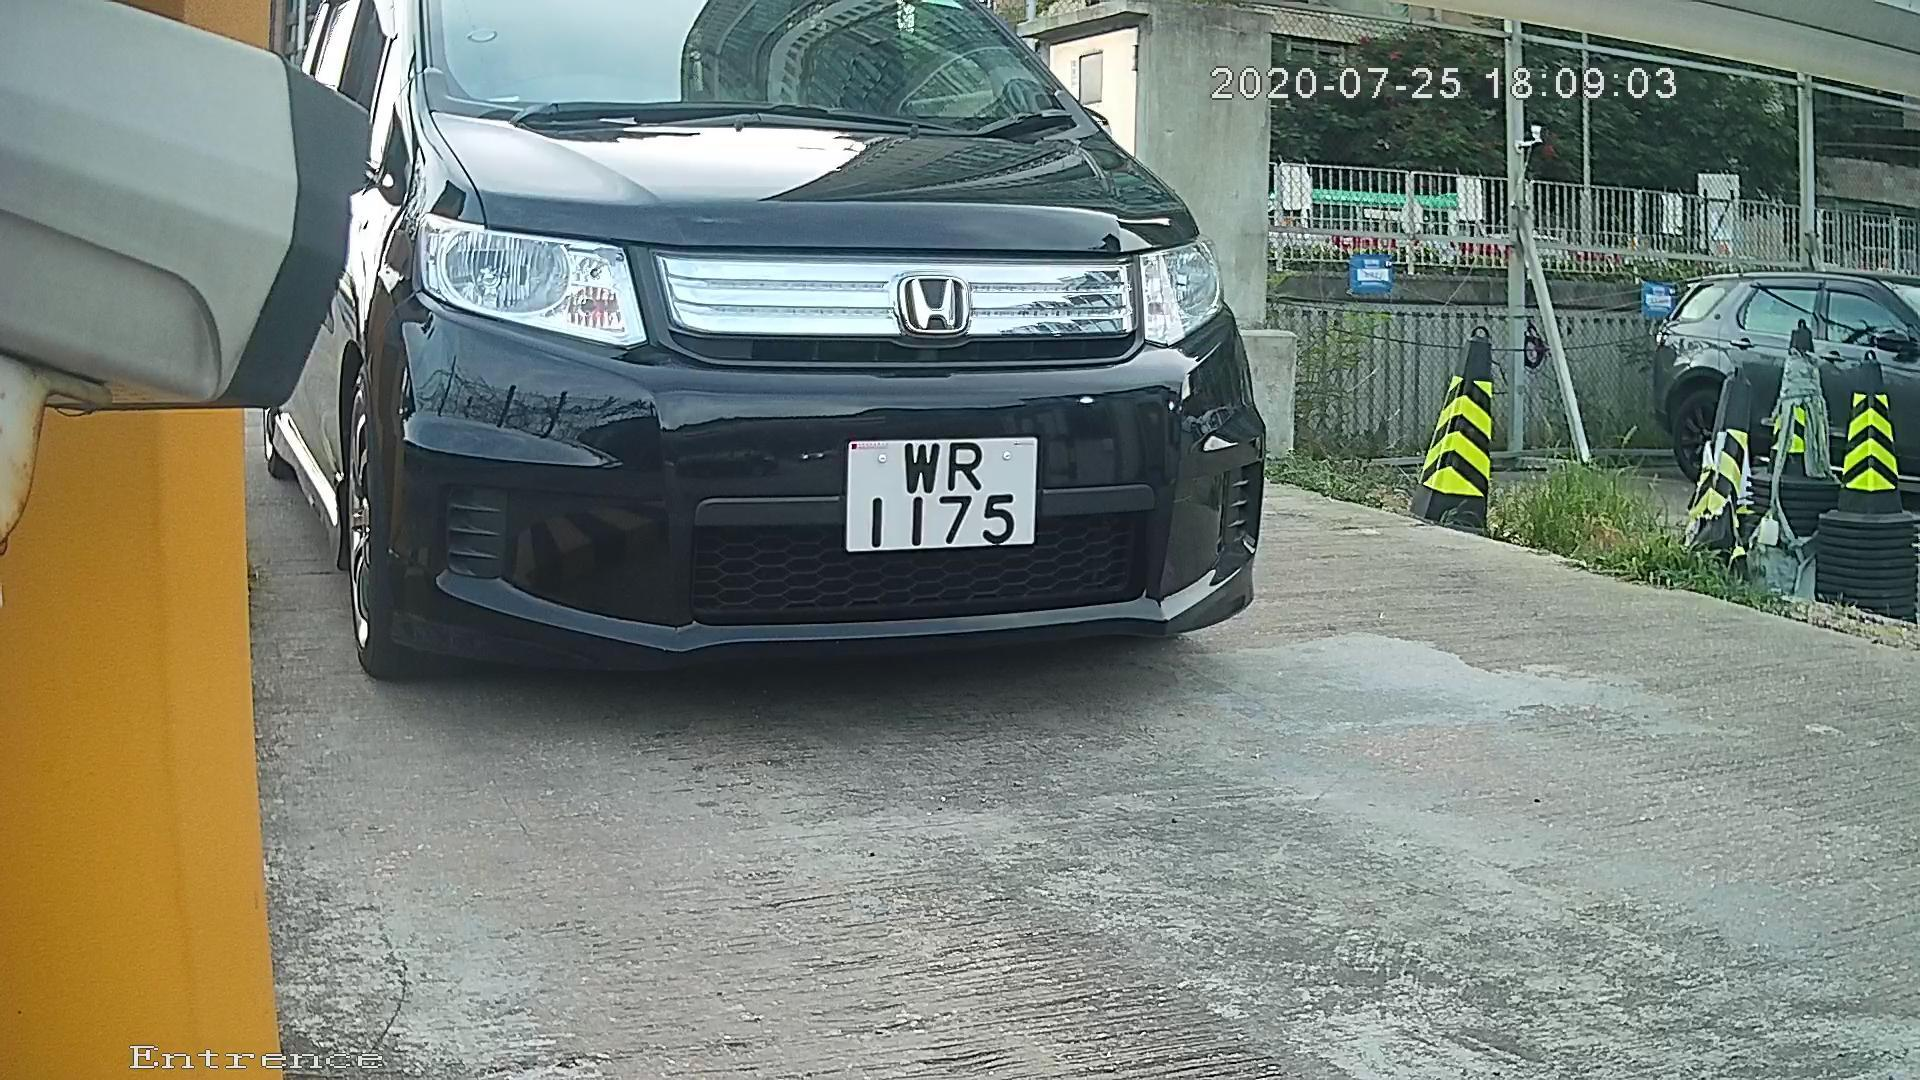privatecar: (281, 3, 1290, 683)
